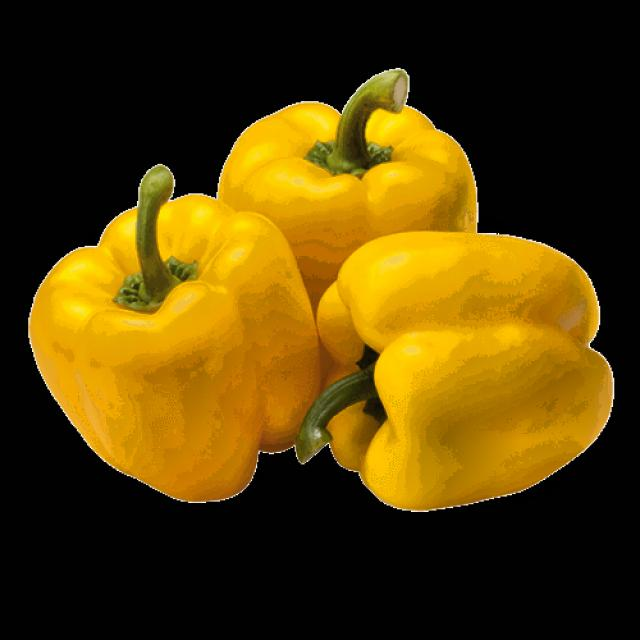capsicum: (28, 44, 622, 570)
